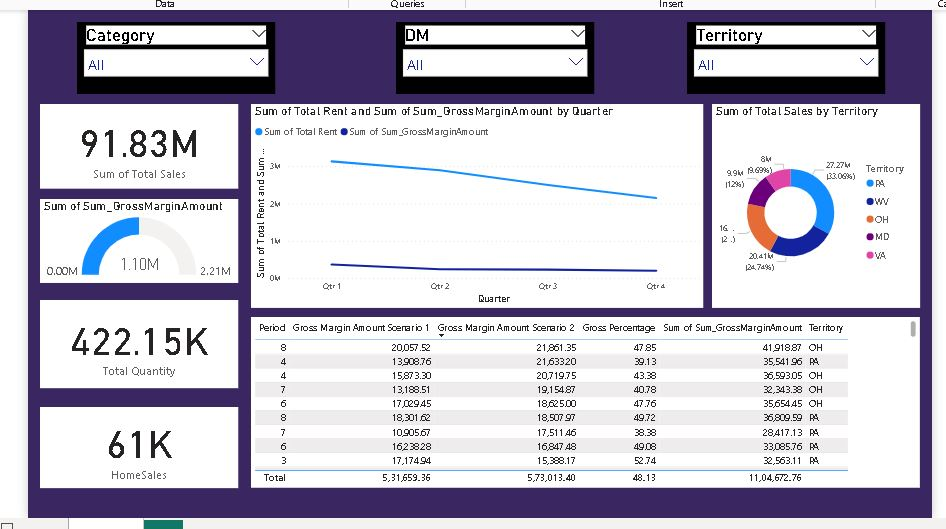

This screenshot's page, from the dashboard's own definition file:
{"tool":"powerbi","page":{"name":"Page 1","canvas":[1280,720],"ordinal":0},"visuals":[{"type":"slicer","fields":{"Values":["Items.Category"]},"box":[69.4,17,280.6,102],"z":0},{"type":"slicer","fields":{"Values":["District.DM"]},"box":[521.6,17,280.6,102],"z":1000},{"type":"slicer","fields":{"Values":["Stores.Territory"]},"box":[934,17,280.6,102],"z":2000},{"type":"card","fields":{"Values":["Sum(Sales.Total Sales)"]},"box":[17,133.2,280.6,120.5],"z":3000},{"type":"gauge","fields":{"Y":["Sum(Sales.Sum_GrossMarginAmount)"]},"box":[17,267.9,280.6,119.1],"z":4000},{"type":"card","fields":{"Values":["Sales.Total Quantity"]},"box":[17,411,280.6,124.7],"z":5000},{"type":"lineChart","fields":{"Y":["Sum(Stores.Total Rent)","Sum(Sales.Sum_GrossMarginAmount)"],"Category":["Stores.OpenDate.Variation.Date Hierarchy.Year","Stores.OpenDate.Variation.Date Hierarchy.Quarter","Stores.OpenDate.Variation.Date Hierarchy.Month"]},"box":[316.1,133.2,640.6,289.1],"z":6000},{"type":"donutChart","fields":{"Y":["Sum(Sales.Total Sales)"],"Category":["Stores.Territory"]},"box":[969.4,133.2,294.8,289.1],"z":7000},{"type":"card","fields":{"Values":["Items.HomeSales"]},"box":[17,562.7,280.6,114.8],"z":8000},{"type":"tableEx","fields":{"Values":["Time.Period","Sales.Gross Margin Amount Scenario 1","Sales.Gross Margin Amount Scenario 2","Sales.Gross Percentage","Sum(Sales.Sum_GrossMarginAmount)","Stores.Territory"]},"box":[316.1,435.1,948.2,242.4],"z":9000}]}

Visuals, with their boxes in screenshot pixels (x1, y1, x2, y2):
slicer - Items.Category: 76,22,272,93
slicer - District.DM: 392,22,588,93
slicer - Stores.Territory: 681,22,877,93
card - Sum(Sales.Total Sales): 39,103,235,187
gauge - Sum(Sales.Sum_GrossMarginAmount): 39,197,235,281
card - Sales.Total Quantity: 39,297,235,385
lineChart - Sum(Stores.Total Rent) x Sum(Sales.Sum_GrossMarginAmount): 248,103,697,305
donutChart - Sum(Sales.Total Sales) x Stores.Territory: 705,103,912,305
card - Items.HomeSales: 39,404,235,484
tableEx - Time.Period x Sales.Gross Margin Amount Scenario 1: 248,314,912,484
